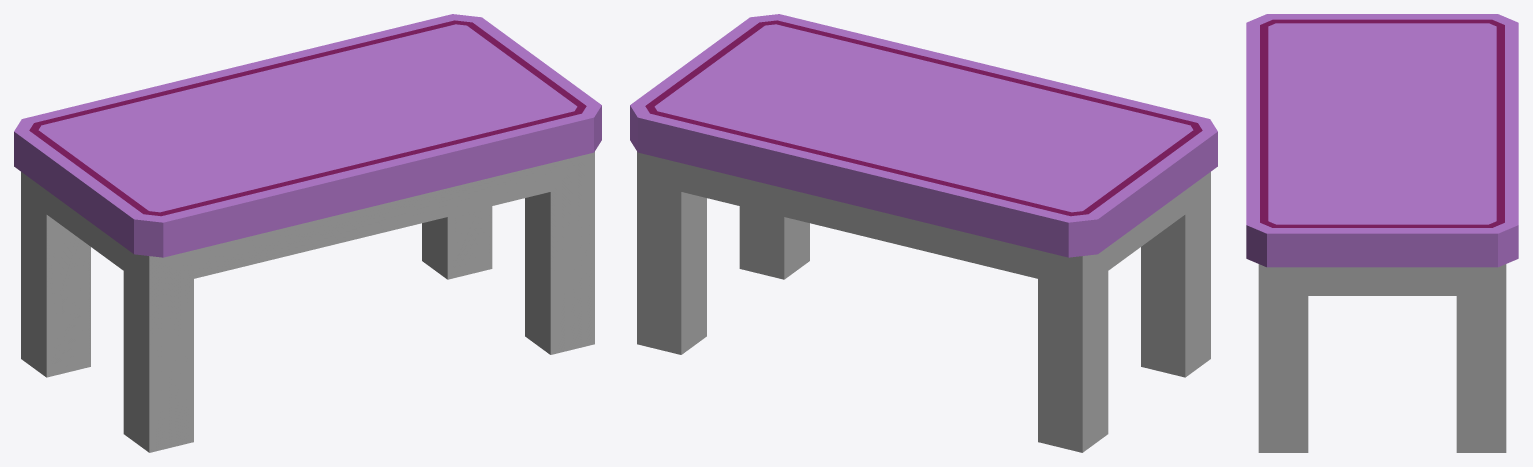
The model's file is benchCushionLow.glb.
The picture shows the model from 3 angles, left to right: view 1: azimuth 30°, elevation 25°; view 2: azimuth 150°, elevation 25°; view 3: azimuth 270°, elevation 25°; orthographic projection. The views are drawn at different scales.
Parts seen in each view (by area): view 1: benchCushionLow; view 2: benchCushionLow; view 3: benchCushionLow.
Boxes of the visible parts, bbox=[...] form: benchCushionLow: bbox=[14, 14, 601, 452]; benchCushionLow: bbox=[630, 14, 1217, 452]; benchCushionLow: bbox=[1246, 14, 1518, 452].
Size of the model in its own units: 0.8827 by 0.4203 by 0.4624.
